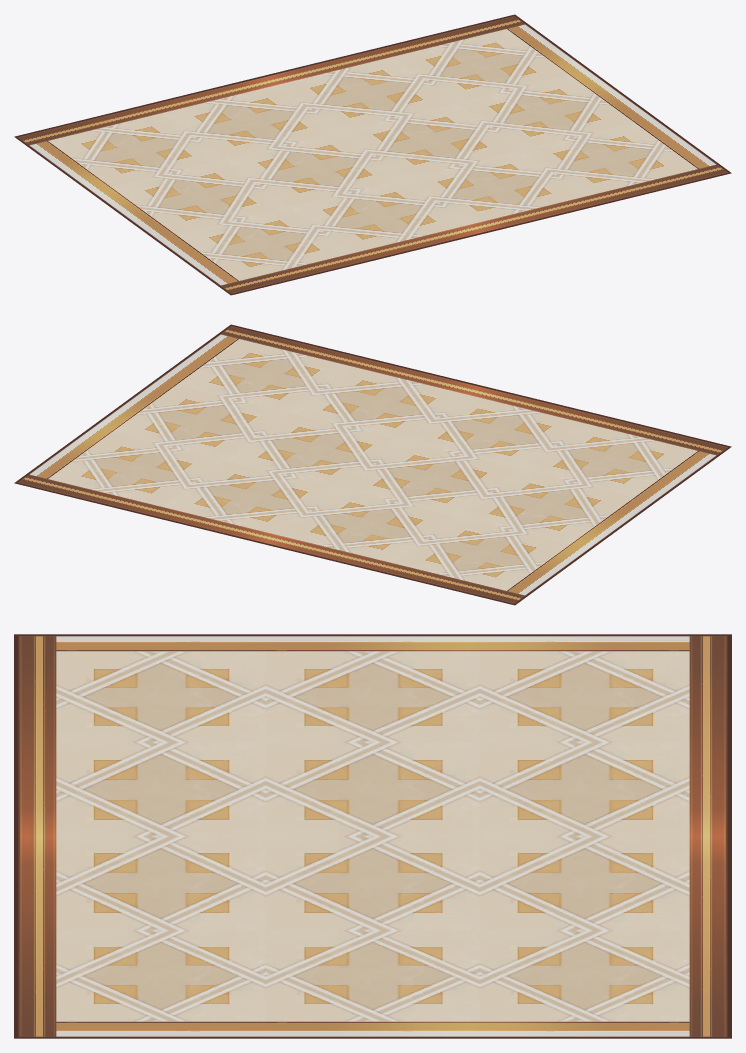
The model's file is my_trinityclassroom_01_carpet_01.glb.
3 views of the same model, one above another, from view 1: azimuth 30°, elevation 25°; view 2: azimuth 150°, elevation 25°; view 3: azimuth 270°, elevation 25° (orthographic). The views are drawn at different scales.
Visible parts, largest first — view 1: my_trinityclassroom_01_carpet_01; view 2: my_trinityclassroom_01_carpet_01; view 3: my_trinityclassroom_01_carpet_01.
Boxes of the visible parts, x1,y1,x2,y2 form: my_trinityclassroom_01_carpet_01: (14, 14, 731, 295); my_trinityclassroom_01_carpet_01: (14, 324, 731, 605); my_trinityclassroom_01_carpet_01: (14, 634, 731, 1038).
Bounding box in the file's own units: 0.024 × 0 × 0.018.
1 material, 1 textured.
